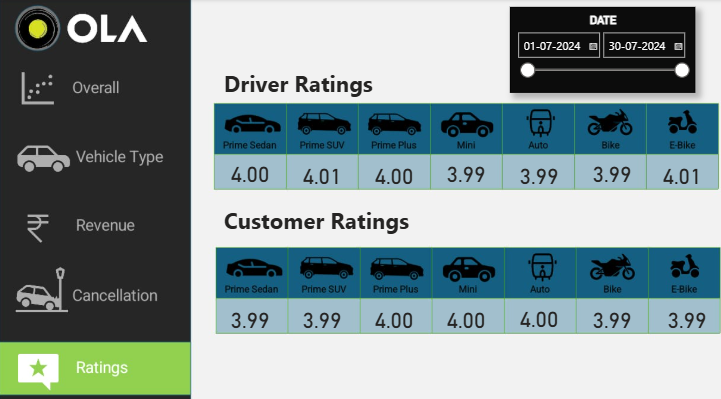

This screenshot's page, from the dashboard's own definition file:
{"tool":"powerbi","page":{"name":"ratings","canvas":[1280,720],"ordinal":4},"visuals":[{"type":"actionButton","box":[0,93.6,321.1,128.2],"z":0},{"type":"actionButton","box":[0,311,321.1,128.2],"z":1000},{"type":"actionButton","box":[0,427.7,321.1,128.2],"z":2000},{"type":"actionButton","box":[0,195.8,321.1,128.2],"z":3000},{"type":"card","fields":{"Values":["Avg(July.Driver_Ratings)"]},"box":[372.9,258.7,97.4,63.8],"z":4000},{"type":"card","fields":{"Values":["Avg(July.Driver_Ratings)"]},"box":[493.9,262,97.4,63.8],"z":5000},{"type":"card","fields":{"Values":["Avg(July.Driver_Ratings)"]},"box":[614.8,262,97.4,63.8],"z":6000},{"type":"card","fields":{"Values":["Avg(July.Driver_Ratings)"]},"box":[735.7,258.7,97.4,63.8],"z":7000},{"type":"card","fields":{"Values":["Avg(July.Driver_Ratings)"]},"box":[1098.6,262,97.4,63.8],"z":8000},{"type":"card","fields":{"Values":["Avg(July.Driver_Ratings)"]},"box":[986,262,87.3,58.8],"z":9000},{"type":"card","fields":{"Values":["Avg(July.Driver_Ratings)"]},"box":[858.4,262,97.4,63.8],"z":10000},{"type":"card","fields":{"Values":["Avg(July.Customer_Rating)"]},"box":[372.9,503.9,97.4,63.8],"z":11000},{"type":"card","fields":{"Values":["Avg(July.Customer_Rating)"]},"box":[493.9,503.9,97.4,63.8],"z":12000},{"type":"card","fields":{"Values":["Avg(July.Customer_Rating)"]},"box":[614.8,503.9,97.4,63.8],"z":13000},{"type":"card","fields":{"Values":["Avg(July.Customer_Rating)"]},"box":[735.7,503.9,97.4,63.8],"z":14000},{"type":"card","fields":{"Values":["Avg(July.Customer_Rating)"]},"box":[1098.6,503.9,114.2,63.8],"z":15000},{"type":"card","fields":{"Values":["Avg(July.Customer_Rating)"]},"box":[981,503.9,97.4,63.8],"z":16000},{"type":"card","fields":{"Values":["Avg(July.Customer_Rating)"]},"box":[858.4,502.3,97.4,63.8],"z":17000},{"type":"textbox","box":[372.9,110.9,267.1,63.8],"z":18000},{"type":"textbox","box":[372.9,341,339.3,58.8],"z":19000},{"type":"slicer","title":"DATE","fields":{"Values":["July.Date"]},"box":[858.4,13.4,310.8,144.5],"z":20000}]}

Visuals, with their boxes on the page's 1280x720 design canvas (x1, y1, x2, y2). These are canvas units, not pixel positions in the 721x399 screenshot, which may show the page scaled, cropped or inside an application window:
actionButton: 0:94:321:222
actionButton: 0:311:321:439
actionButton: 0:428:321:556
actionButton: 0:196:321:324
card - Avg(July.Driver_Ratings): 373:259:470:322
card - Avg(July.Driver_Ratings): 494:262:591:326
card - Avg(July.Driver_Ratings): 615:262:712:326
card - Avg(July.Driver_Ratings): 736:259:833:322
card - Avg(July.Driver_Ratings): 1099:262:1196:326
card - Avg(July.Driver_Ratings): 986:262:1073:321
card - Avg(July.Driver_Ratings): 858:262:956:326
card - Avg(July.Customer_Rating): 373:504:470:568
card - Avg(July.Customer_Rating): 494:504:591:568
card - Avg(July.Customer_Rating): 615:504:712:568
card - Avg(July.Customer_Rating): 736:504:833:568
card - Avg(July.Customer_Rating): 1099:504:1213:568
card - Avg(July.Customer_Rating): 981:504:1078:568
card - Avg(July.Customer_Rating): 858:502:956:566
textbox: 373:111:640:175
textbox: 373:341:712:400
"DATE" slicer: 858:13:1169:158
